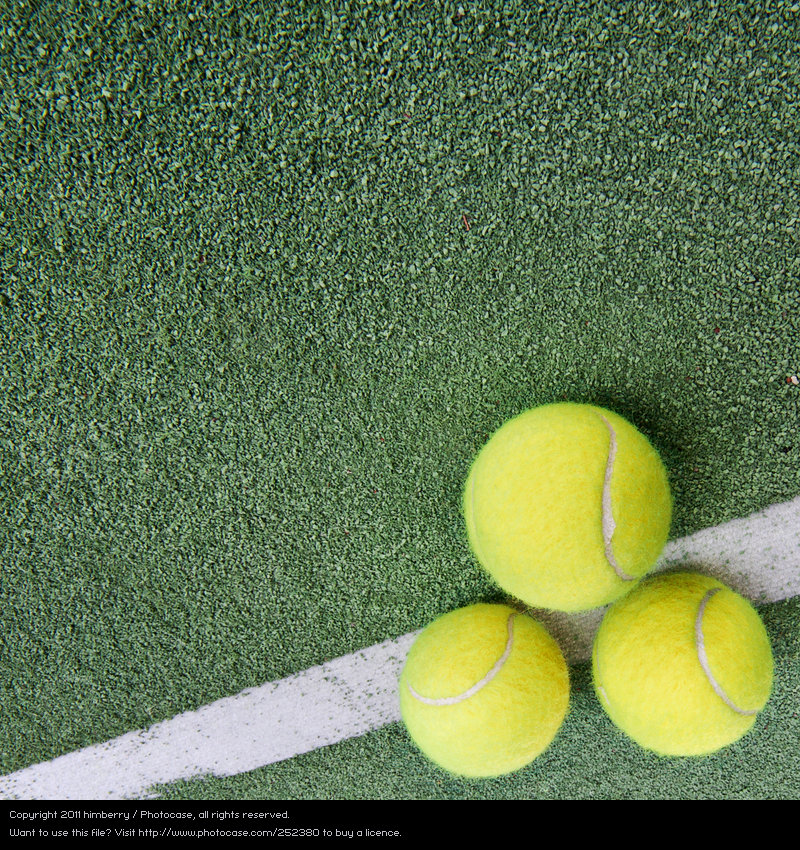tennis_ball: (457, 400, 675, 609), (591, 572, 777, 770), (390, 600, 573, 783)
